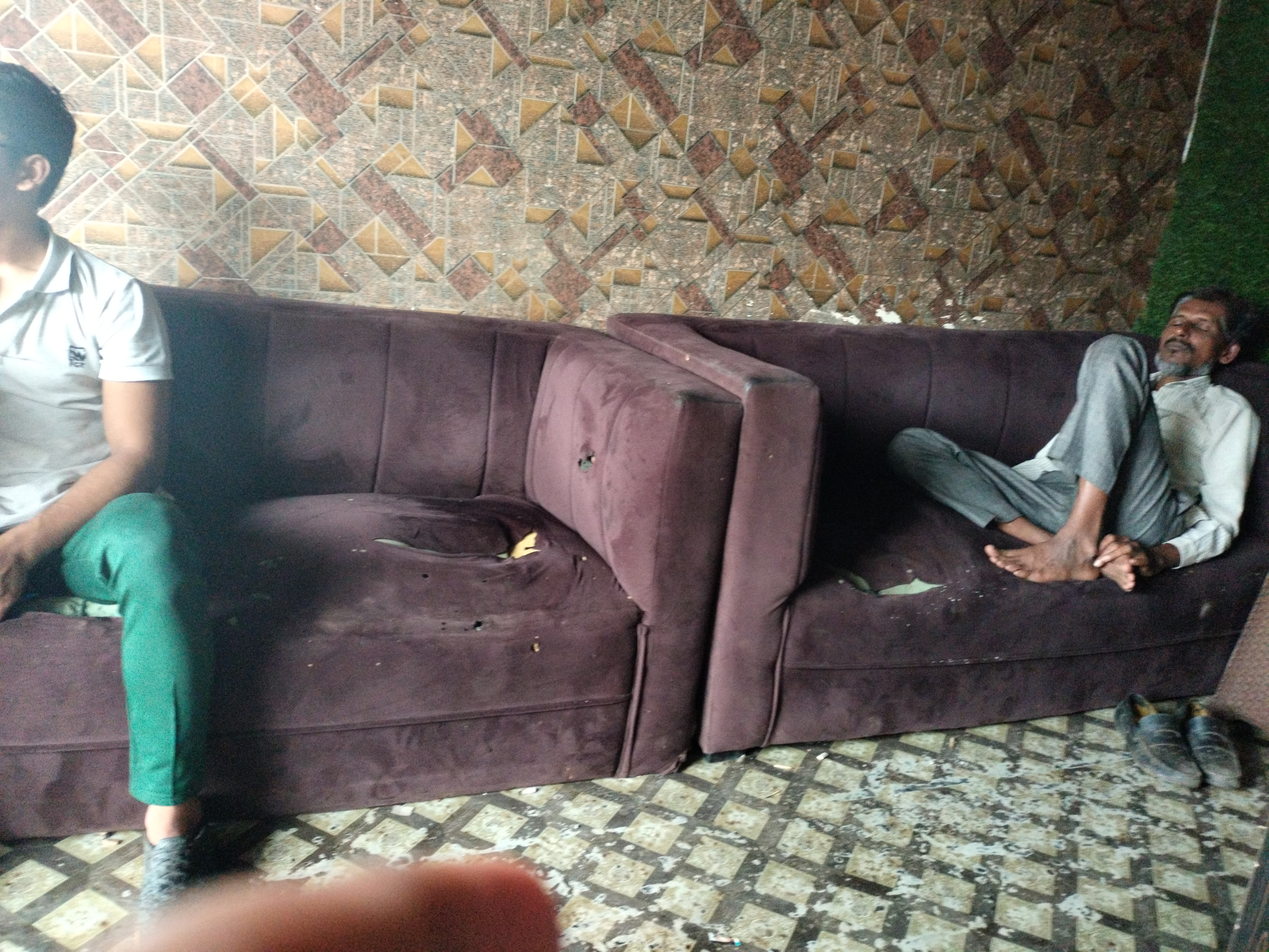sofa: (0, 286, 746, 841), (619, 306, 1269, 757)
